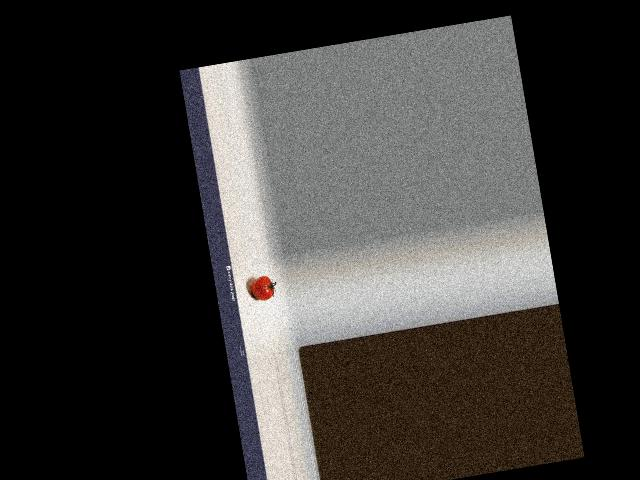tomato: (249, 275, 274, 302)
